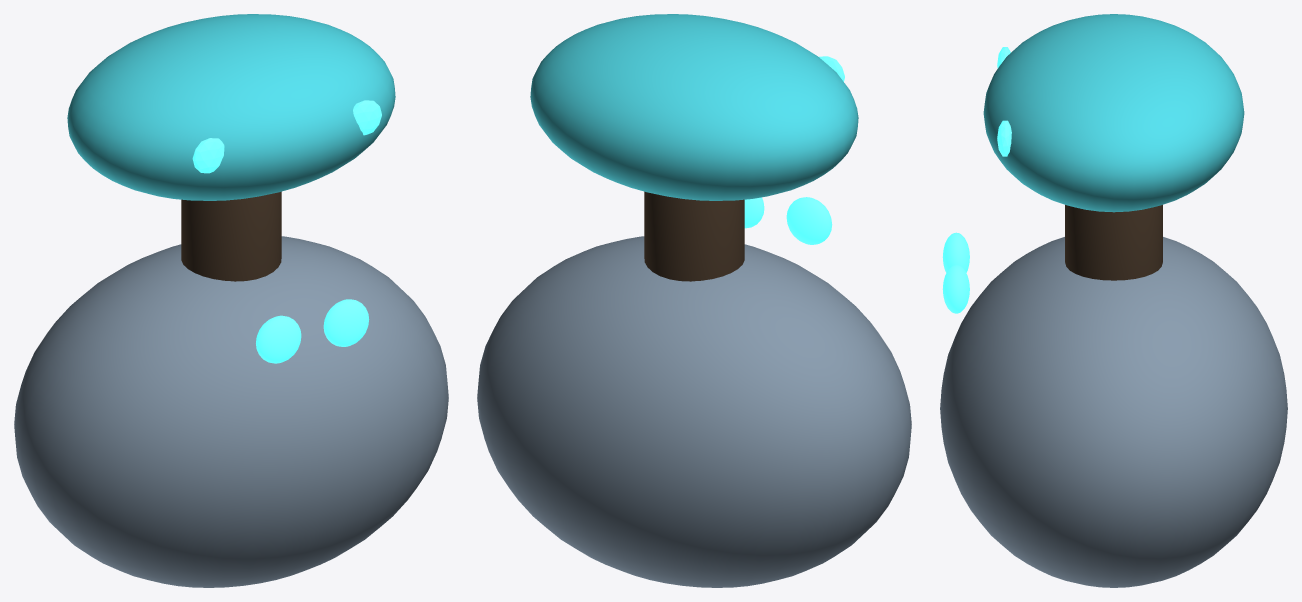
Rendered from ooze_v7.glb.
The picture shows the model from 3 angles, left to right: view 1: azimuth 30°, elevation 25°; view 2: azimuth 150°, elevation 25°; view 3: azimuth 270°, elevation 25°; orthographic projection. The views are drawn at different scales.
Visible parts, largest first — view 1: MUSHROOM_SLIME_PRIMARY, SLIME_CAP_ACCENT, SLIME_STEM_SECONDARY, EYE_EMISSIVE, EYE_EMISSIVE.001, CAP_SPOT_EMISSIVE, CAP_SPOT_EMISSIVE.002; view 2: MUSHROOM_SLIME_PRIMARY, SLIME_CAP_ACCENT, SLIME_STEM_SECONDARY, EYE_EMISSIVE; view 3: MUSHROOM_SLIME_PRIMARY, SLIME_CAP_ACCENT, SLIME_STEM_SECONDARY, EYE_EMISSIVE.001, EYE_EMISSIVE.
Part boxes in pixels (<box>): MUSHROOM_SLIME_PRIMARY: <box>14,236,448,587</box>; SLIME_CAP_ACCENT: <box>67,14,395,200</box>; SLIME_STEM_SECONDARY: <box>181,191,281,281</box>; EYE_EMISSIVE: <box>256,315,301,363</box>; EYE_EMISSIVE.001: <box>323,299,369,346</box>; CAP_SPOT_EMISSIVE: <box>192,138,224,173</box>; CAP_SPOT_EMISSIVE.002: <box>353,100,381,135</box>; MUSHROOM_SLIME_PRIMARY: <box>477,236,911,587</box>; SLIME_CAP_ACCENT: <box>530,14,858,200</box>; SLIME_STEM_SECONDARY: <box>644,191,744,281</box>; EYE_EMISSIVE: <box>786,197,832,244</box>; MUSHROOM_SLIME_PRIMARY: <box>940,237,1287,587</box>; SLIME_CAP_ACCENT: <box>983,14,1244,212</box>; SLIME_STEM_SECONDARY: <box>1065,205,1162,280</box>; EYE_EMISSIVE.001: <box>942,265,969,313</box>; EYE_EMISSIVE: <box>942,232,969,272</box>.
Size of the model in its own units: 1.64 by 2.1 by 1.28.
